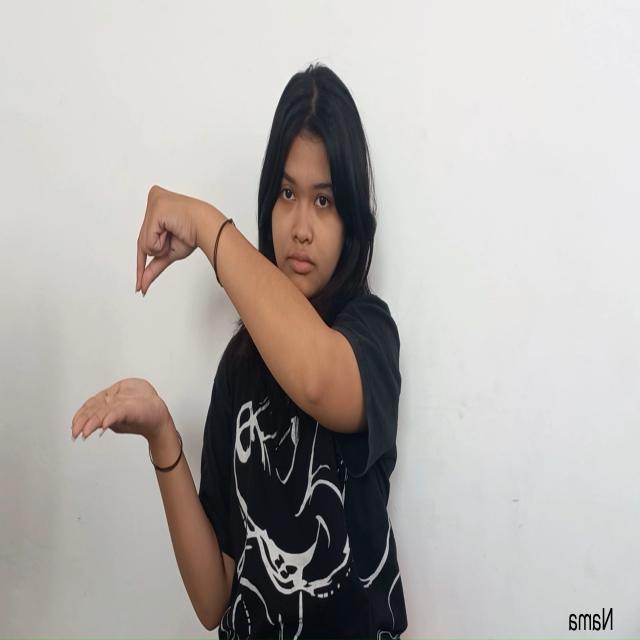Nama -BISINDO-: (70, 184, 208, 442)
